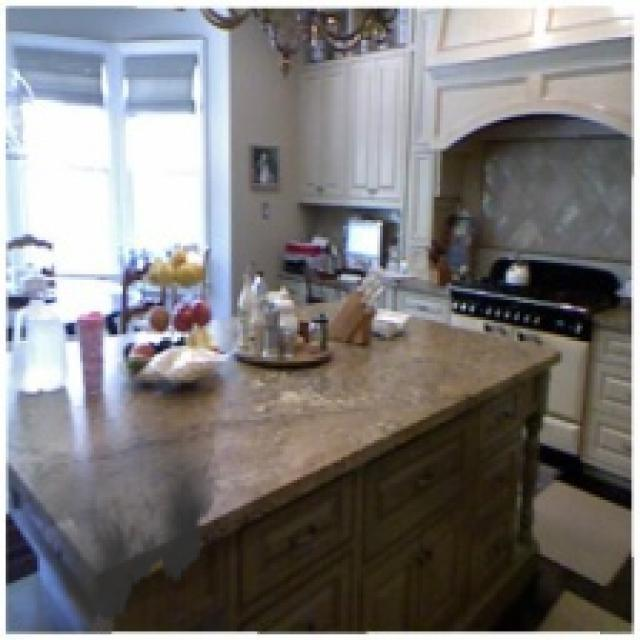Smoke: (20, 383, 220, 631)
